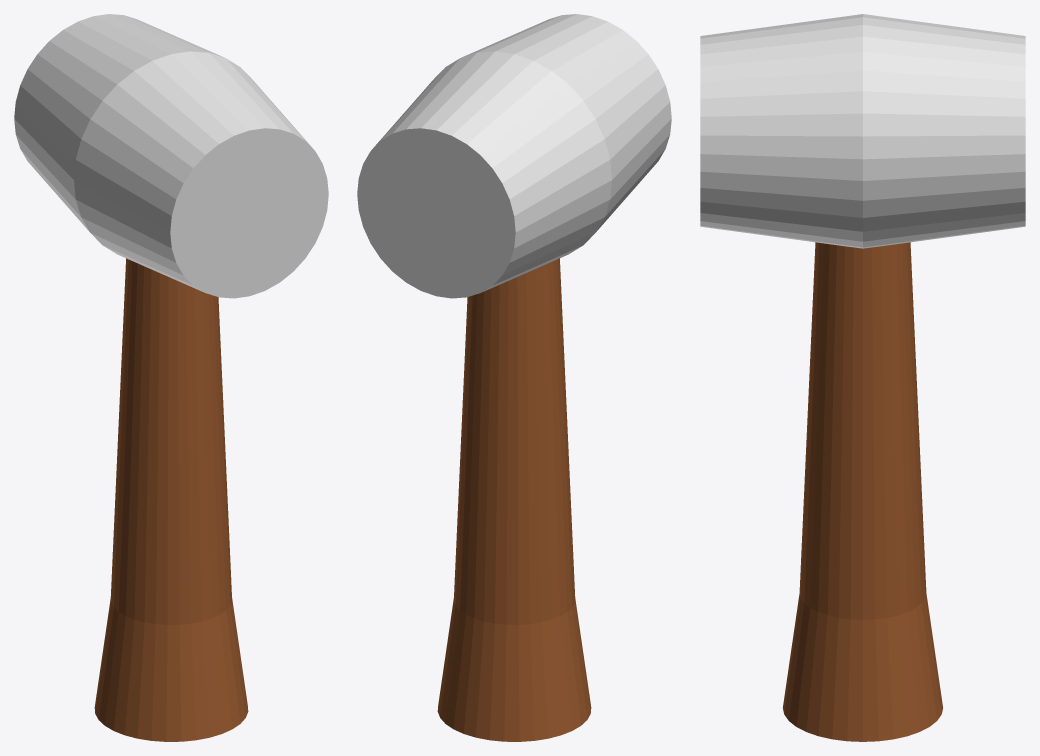
File: Hammer.fbx
The picture shows the model from 3 angles, left to right: view 1: azimuth 30°, elevation 25°; view 2: azimuth 150°, elevation 25°; view 3: azimuth 270°, elevation 25°; orthographic projection. The views are drawn at different scales.
Visible parts, largest first — view 1: Hammer; view 2: Hammer; view 3: Hammer.
Boxes of the visible parts, x1,y1,x2,y2 form: Hammer: [14, 14, 328, 741]; Hammer: [357, 14, 671, 741]; Hammer: [700, 14, 1025, 741].
Bounding box in the file's own units: 370 × 1188 × 513.
